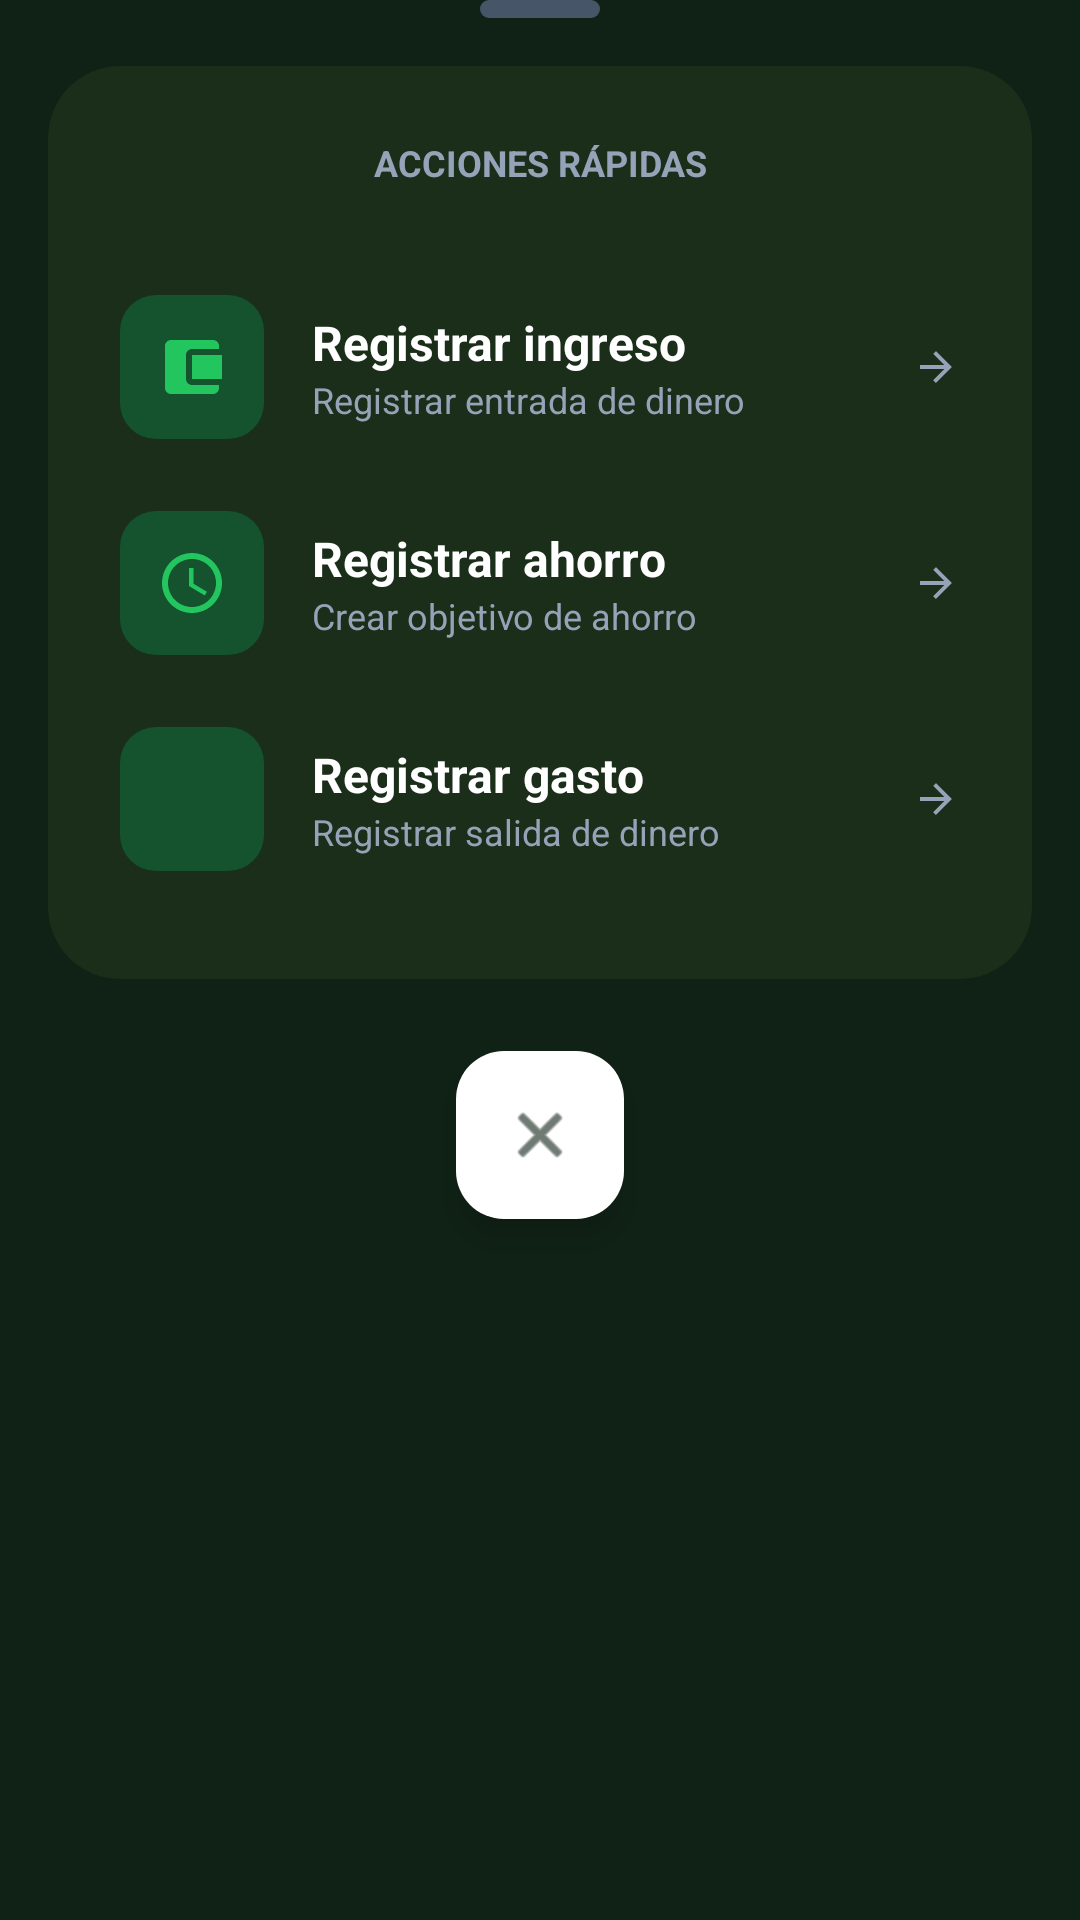

Icon click points for this 1080 x 1920 phone screenshot, format (x,y):
close clear cancel: (540,1135)
wallet: (193,367)
